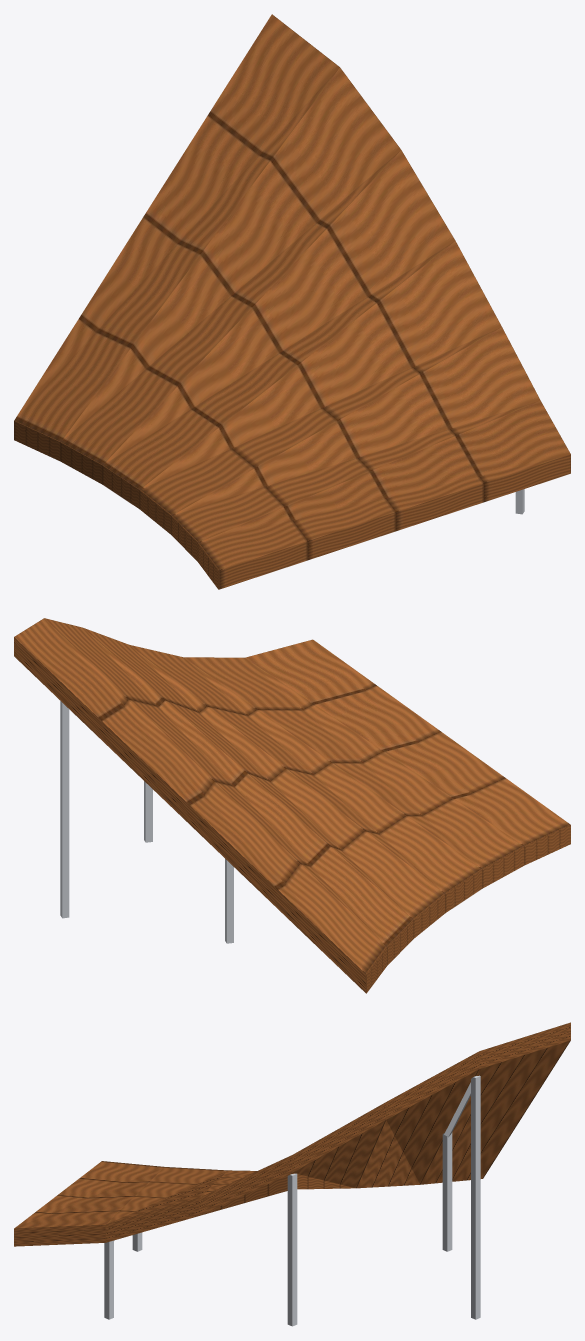
Rendered from velodrome-and-track-cycling-banked-track-transition-mo-694ee894__37974.glb.
The picture shows the model from 3 angles, top to bottom: view 1: azimuth 30°, elevation 25°; view 2: azimuth 150°, elevation 25°; view 3: azimuth 270°, elevation 25°; orthographic projection. The views are drawn at different scales.
Parts seen in each view (by area): view 1: banked-track-transition-module-mirrored-board; view 2: banked-track-transition-module-mirrored-board, banked-track-transition-module-mirrored-steel; view 3: banked-track-transition-module-mirrored-board, banked-track-transition-module-mirrored-steel.
Part boxes in pixels (box(x1,y1,x2,y2)): banked-track-transition-module-mirrored-board: box(14, 14, 570, 589); banked-track-transition-module-mirrored-board: box(14, 618, 570, 993); banked-track-transition-module-mirrored-steel: box(60, 701, 233, 943); banked-track-transition-module-mirrored-board: box(14, 1022, 570, 1246); banked-track-transition-module-mirrored-steel: box(104, 1075, 480, 1326).
Bounding box in the file's own units: 6.44 × 5.75 × 9.84.
2 materials, 1 textured.
